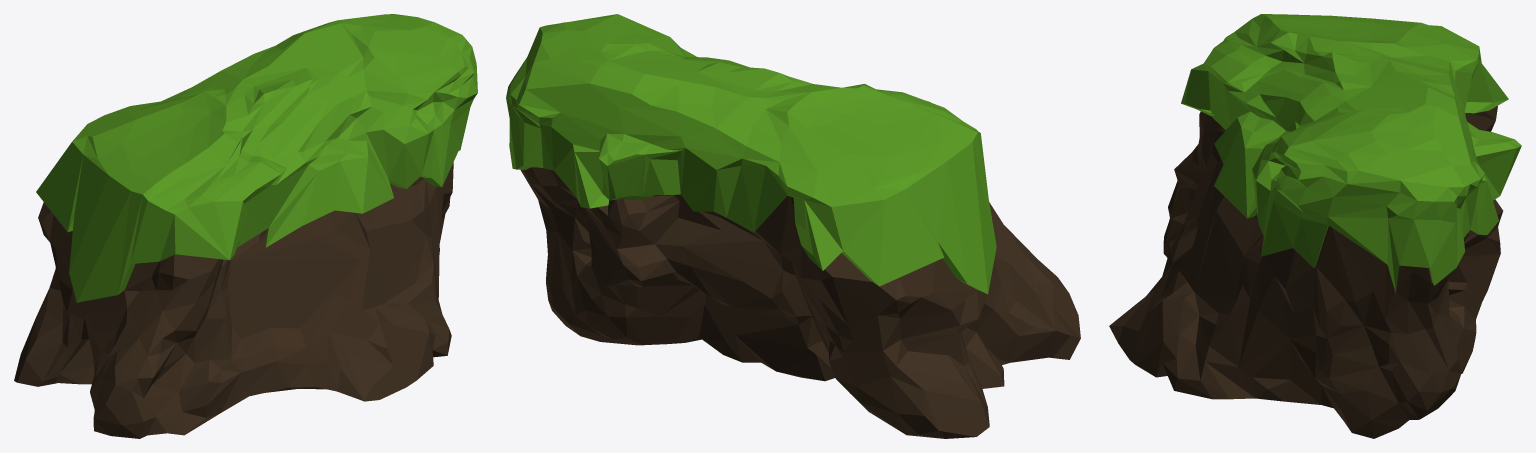
Rendered from M_cliff_grass_01.FBX.
The picture shows the model from 3 angles, left to right: view 1: azimuth 30°, elevation 25°; view 2: azimuth 150°, elevation 25°; view 3: azimuth 270°, elevation 25°; orthographic projection. The views are drawn at different scales.
Visible parts, largest first — view 1: Object041; view 2: Object041; view 3: Object041.
Boxes of the visible parts, bbox=[...] form: Object041: bbox=[14, 14, 477, 438]; Object041: bbox=[506, 14, 1080, 438]; Object041: bbox=[1109, 14, 1521, 438].
Size of the model in its own units: 1568 by 952 by 1113.
